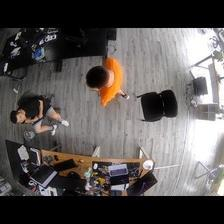normal: (7, 93, 73, 140), (83, 56, 131, 109)
